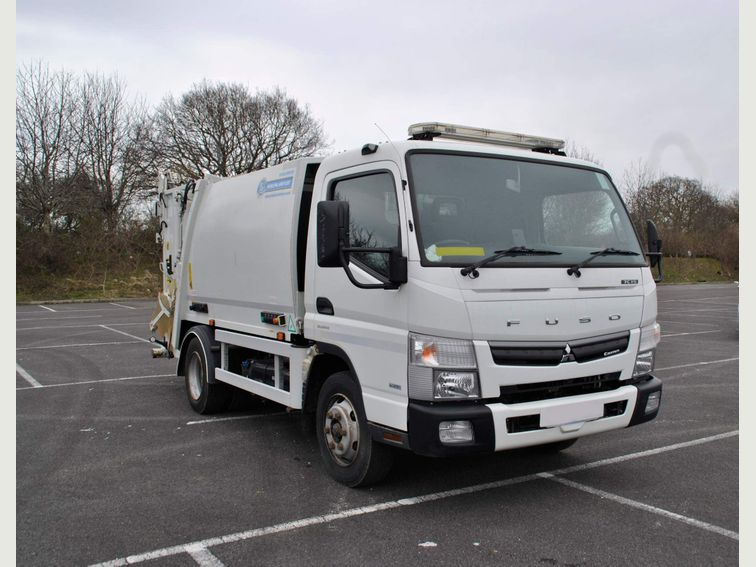Semi: (154, 122, 661, 486)
